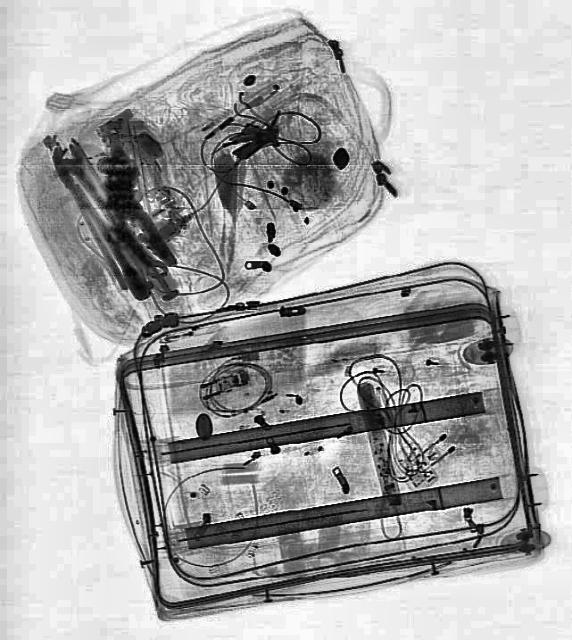Wrench: (49, 138, 173, 286)
